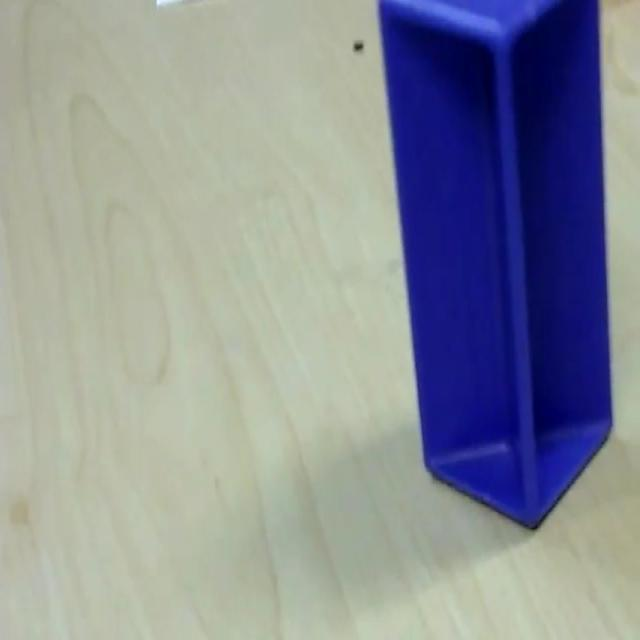blue_block: (375, 0, 613, 529)
